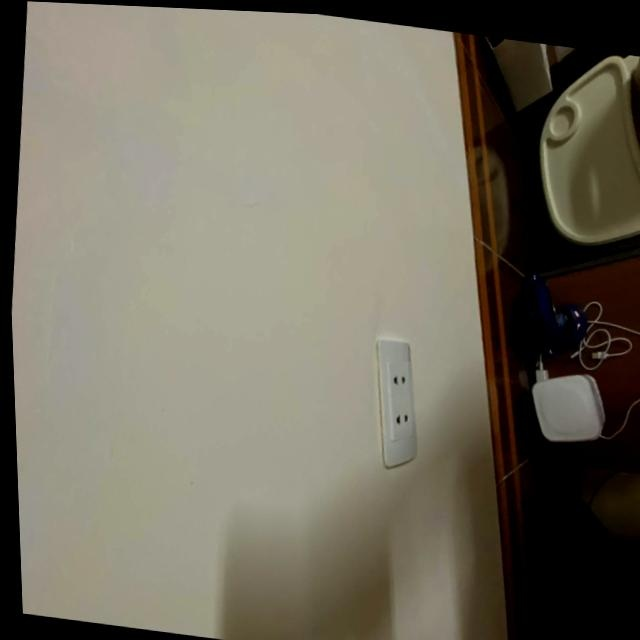outlet: (364, 335, 428, 472)
